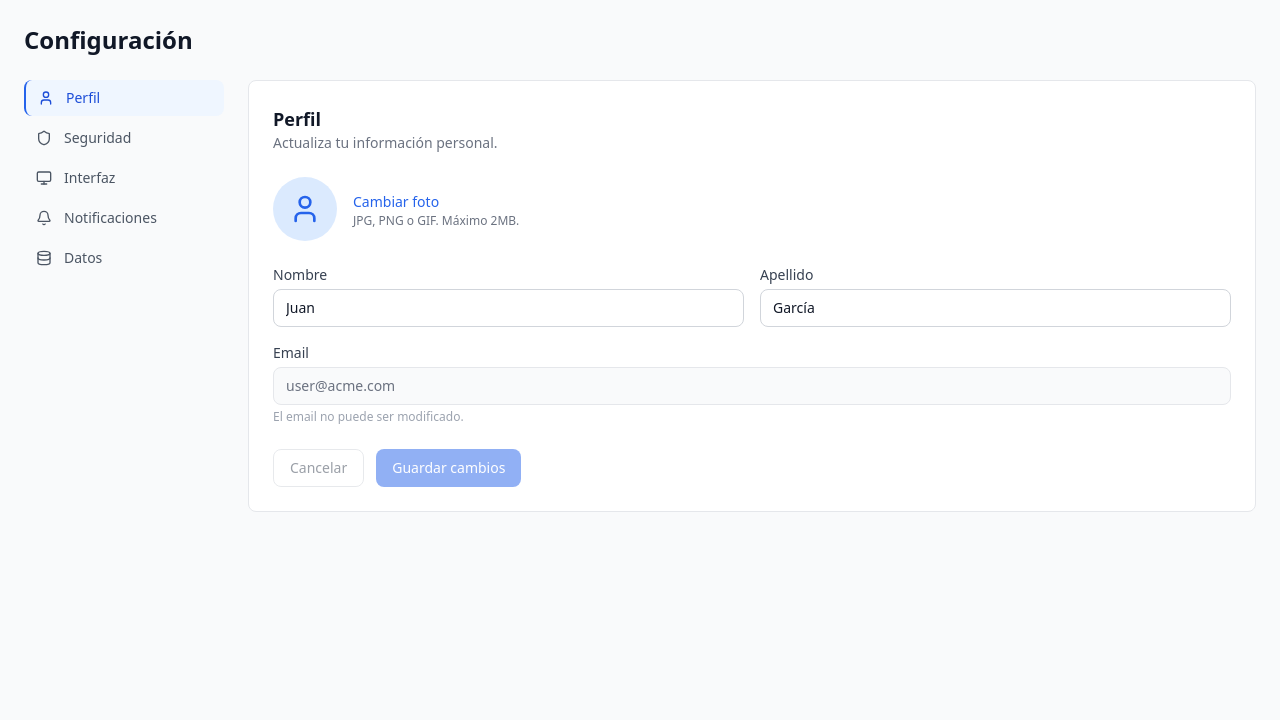
SettingsPage › switches tab on click
The image size is (1280, 720).
Click the button "Seguridad".
click(124, 138)  # box [24,120,224,156]
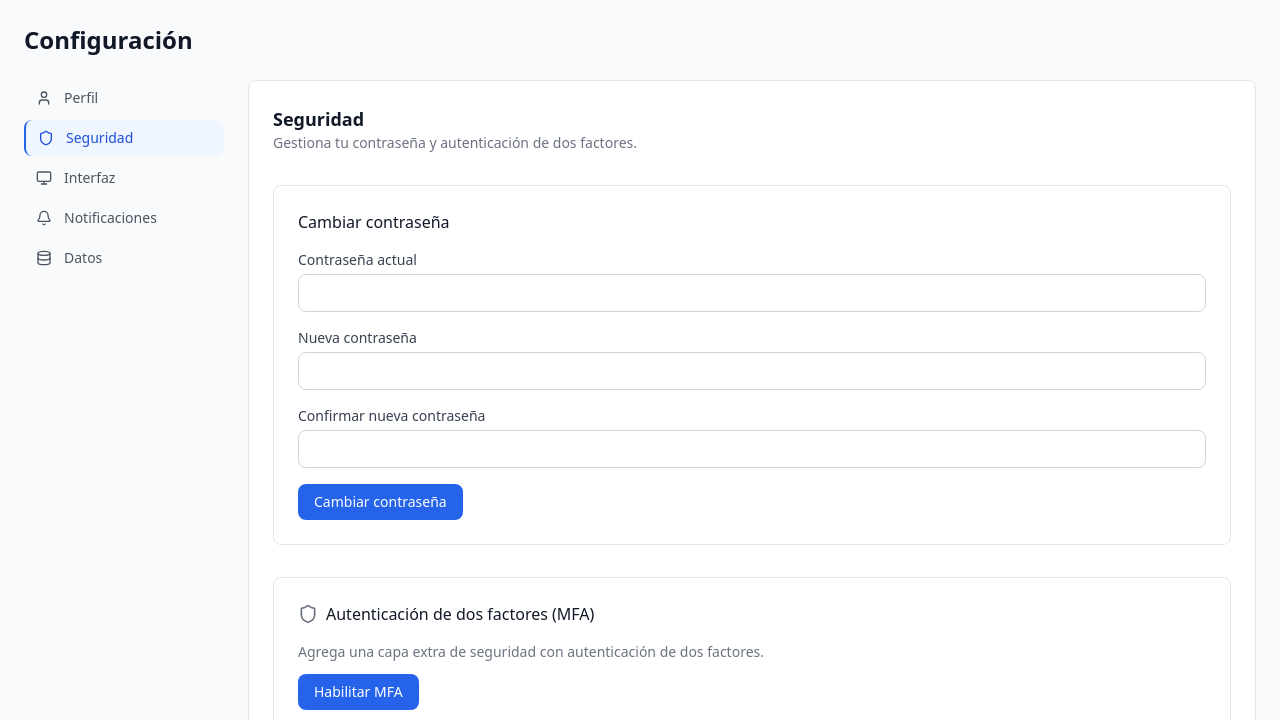
Result: the form with test id "change-password-form" is shown at [298,250,1206,520]
